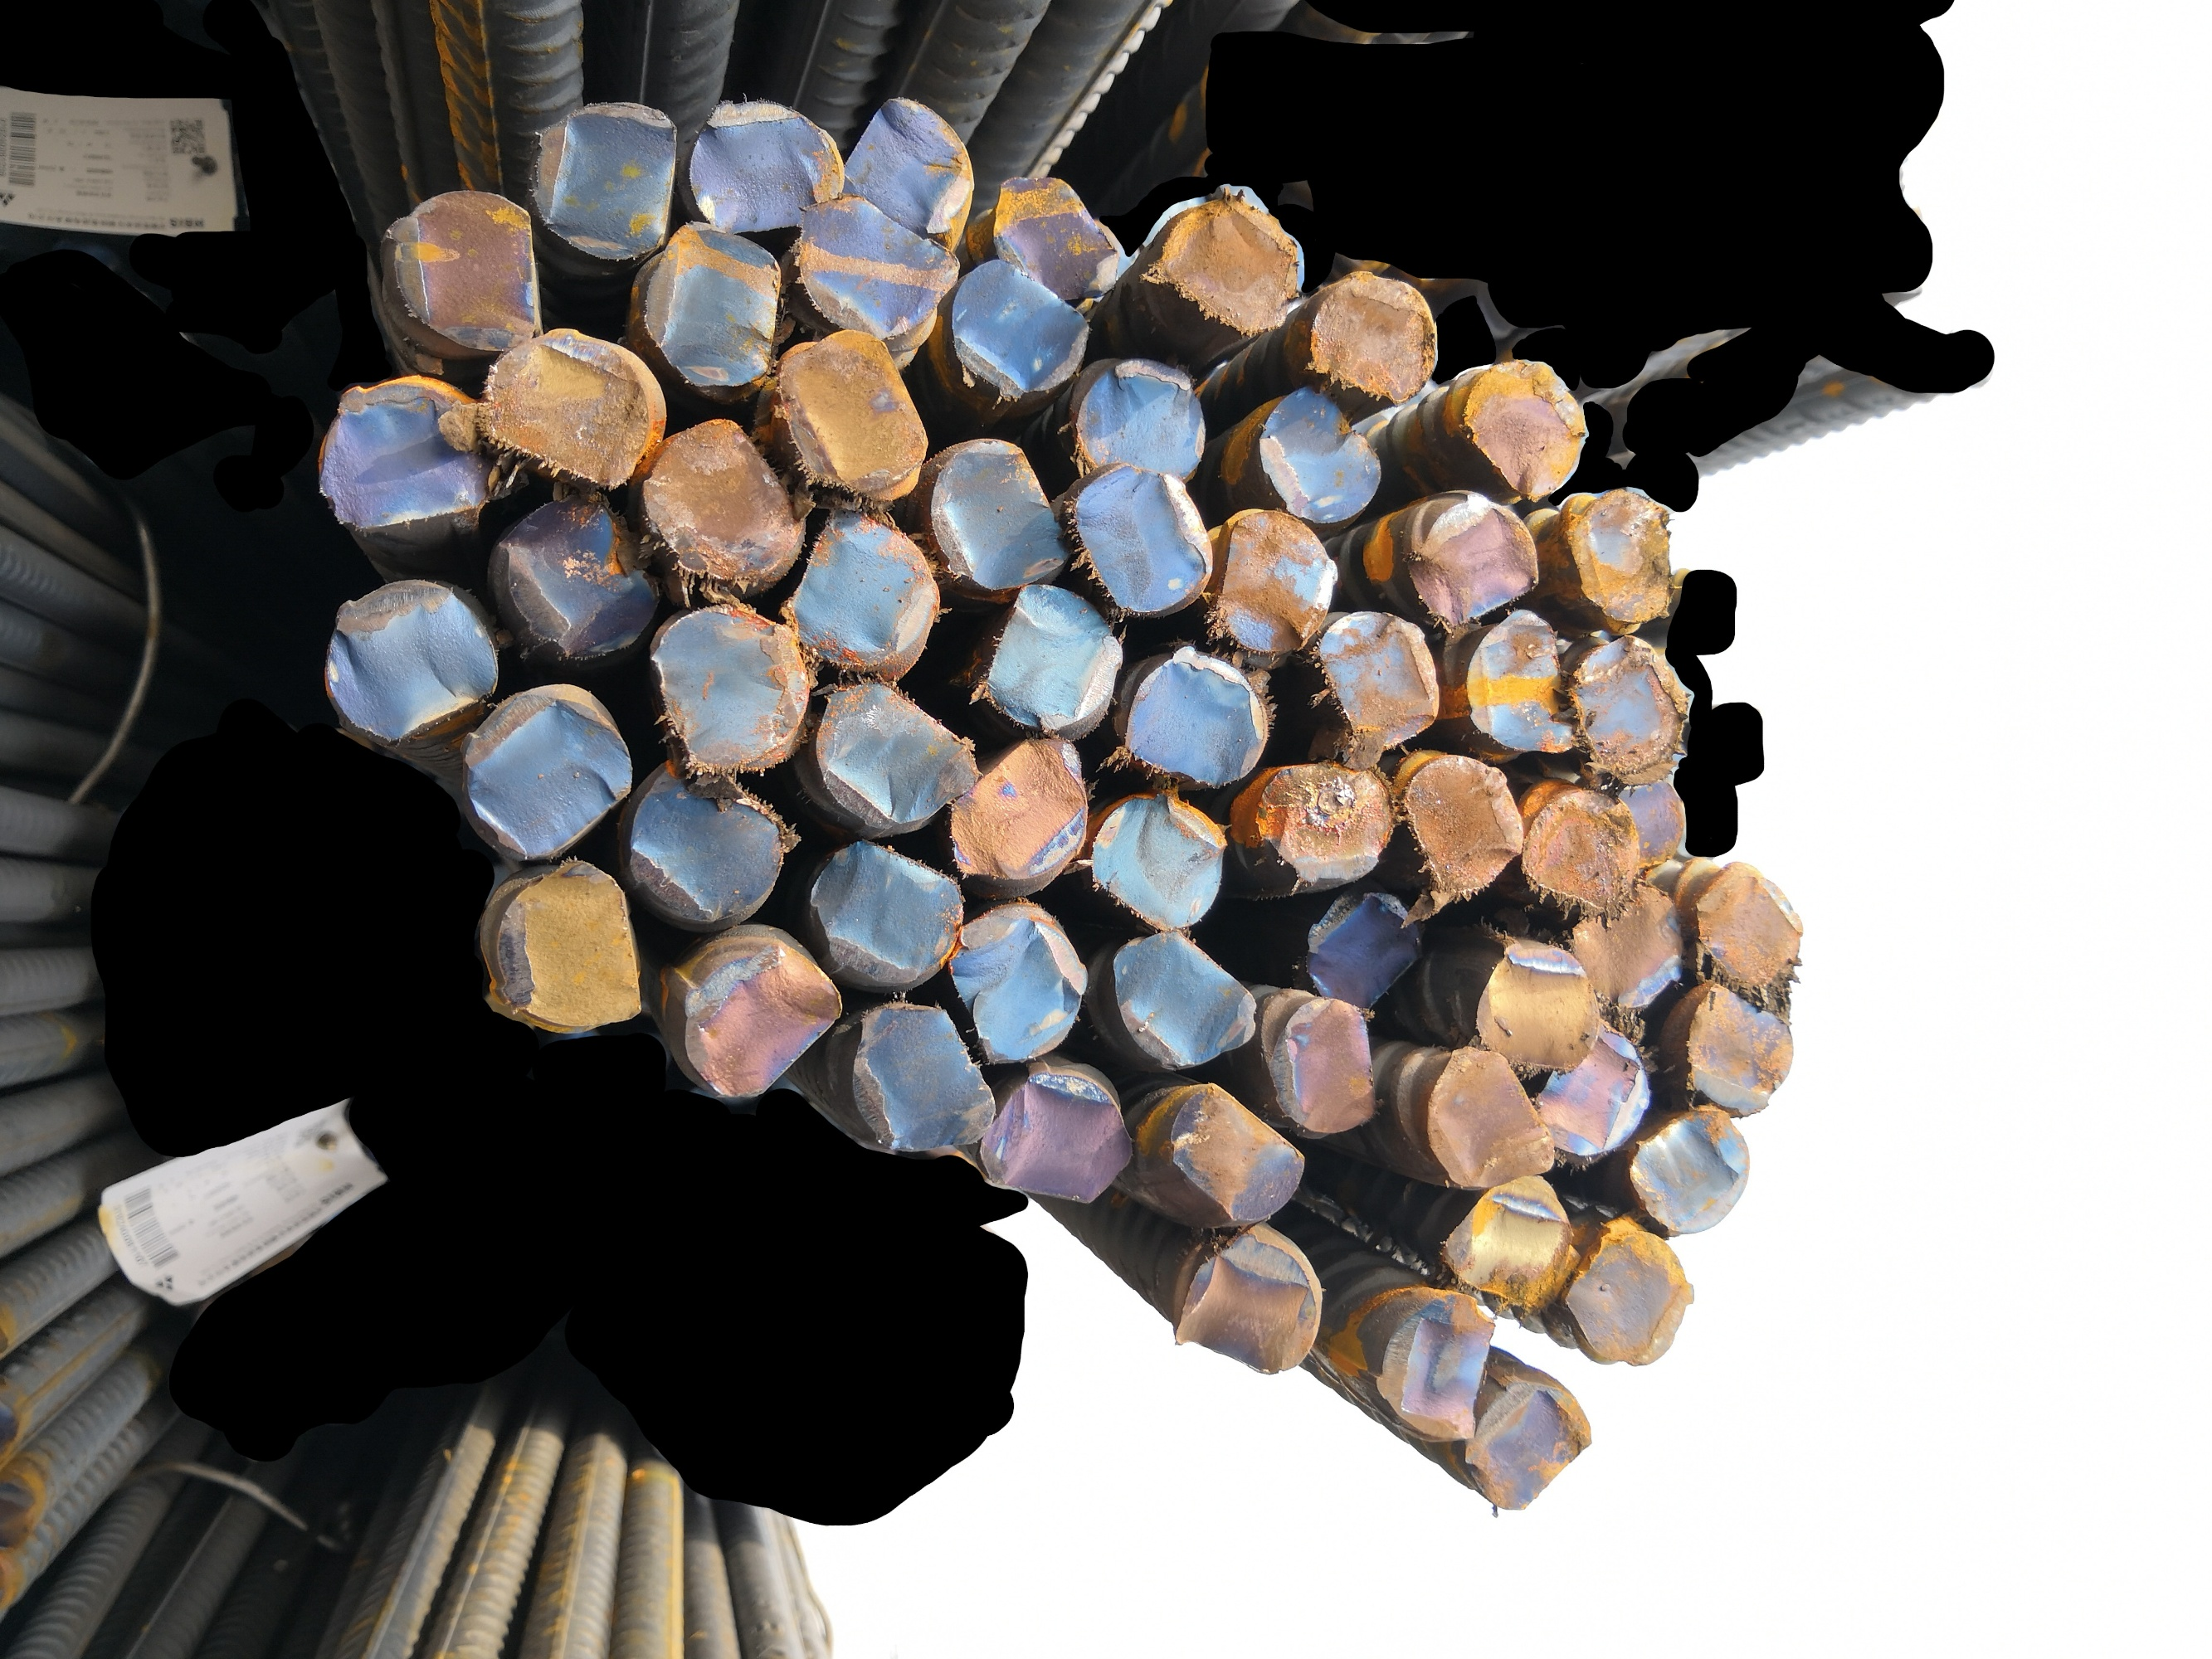rebar: (479, 324, 657, 498), (633, 416, 809, 591), (324, 577, 502, 742), (654, 605, 809, 789), (465, 690, 631, 861), (680, 941, 845, 1110), (770, 329, 931, 497), (629, 755, 788, 924), (385, 185, 544, 354), (786, 193, 964, 343), (777, 502, 934, 671), (497, 498, 654, 667), (310, 382, 483, 535), (852, 990, 1002, 1162), (499, 864, 654, 1030), (1163, 1227, 1330, 1380), (816, 676, 980, 829), (528, 98, 680, 263), (948, 897, 1089, 1072), (640, 223, 790, 387), (969, 1061, 1137, 1204), (941, 732, 1096, 880), (1065, 462, 1211, 619), (943, 254, 1100, 401), (929, 434, 1070, 596), (1107, 927, 1260, 1072), (976, 582, 1123, 730), (812, 845, 966, 985), (835, 92, 974, 246), (1086, 786, 1227, 934), (1149, 200, 1299, 338), (1213, 504, 1340, 666), (1166, 1084, 1309, 1227), (1123, 648, 1265, 791), (1375, 1288, 1499, 1452), (1401, 742, 1525, 906), (1569, 1216, 1698, 1373), (1405, 491, 1541, 640), (690, 101, 842, 232), (1320, 606, 1449, 760), (1464, 354, 1593, 505), (1424, 1046, 1555, 1192), (1462, 1371, 1593, 1516), (1445, 1182, 1584, 1314), (987, 174, 1126, 307), (1564, 877, 1691, 1021), (1578, 633, 1694, 789), (1471, 599, 1583, 762), (1072, 357, 1206, 491), (1257, 767, 1400, 892), (1539, 1023, 1658, 1171), (1523, 777, 1642, 925), (1313, 272, 1445, 404), (1682, 856, 1806, 995), (1626, 1096, 1747, 1239), (1257, 390, 1381, 525), (1476, 938, 1597, 1075), (1682, 978, 1795, 1121), (1304, 887, 1428, 1014), (1581, 481, 1679, 633), (1286, 990, 1381, 1140), (1609, 774, 1693, 878)
